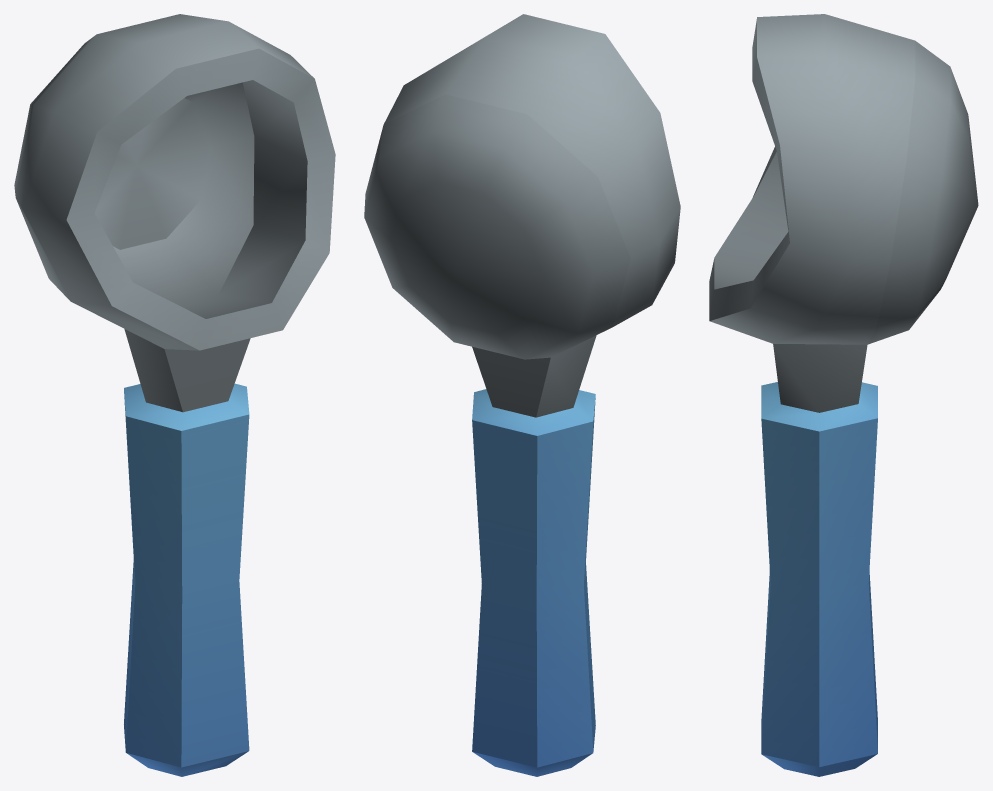
File: icecream_scoop.obj
3 views of the same model, side by side, from view 1: azimuth 30°, elevation 25°; view 2: azimuth 150°, elevation 25°; view 3: azimuth 270°, elevation 25° (orthographic).
Visible parts, largest first — view 1: icecream_scoop_Torus.010; view 2: icecream_scoop_Torus.010; view 3: icecream_scoop_Torus.010.
Boxes of the visible parts, x1,y1,x2,y2 form: icecream_scoop_Torus.010: [14, 14, 335, 776]; icecream_scoop_Torus.010: [364, 14, 680, 776]; icecream_scoop_Torus.010: [709, 14, 978, 776].
Size of the model in its own units: 0.3948 by 0.9361 by 0.316.
1 material, 1 textured.
